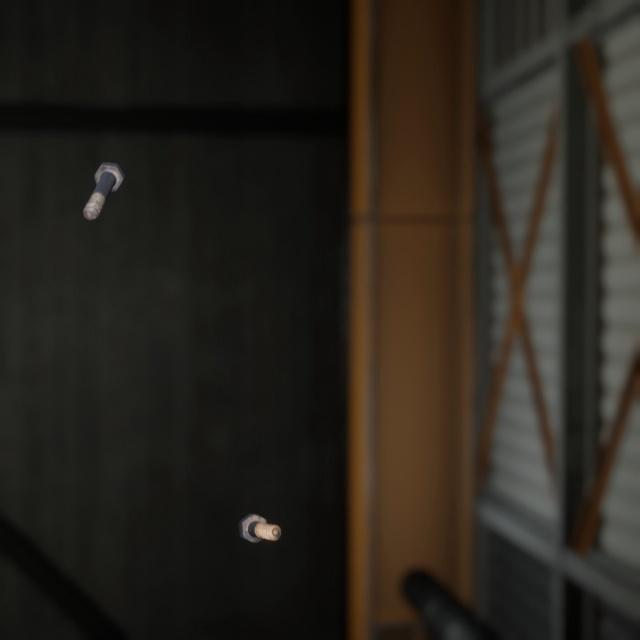bolt: (78, 144, 129, 210), (234, 486, 285, 525)
